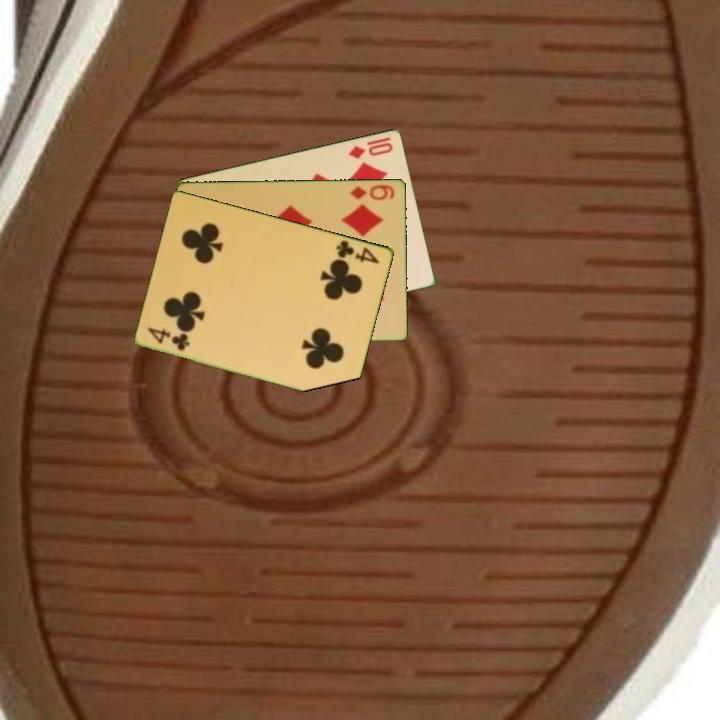10d: (345, 138, 396, 161)
4c: (333, 236, 382, 266), (144, 324, 193, 353)
6d: (347, 181, 398, 203)
